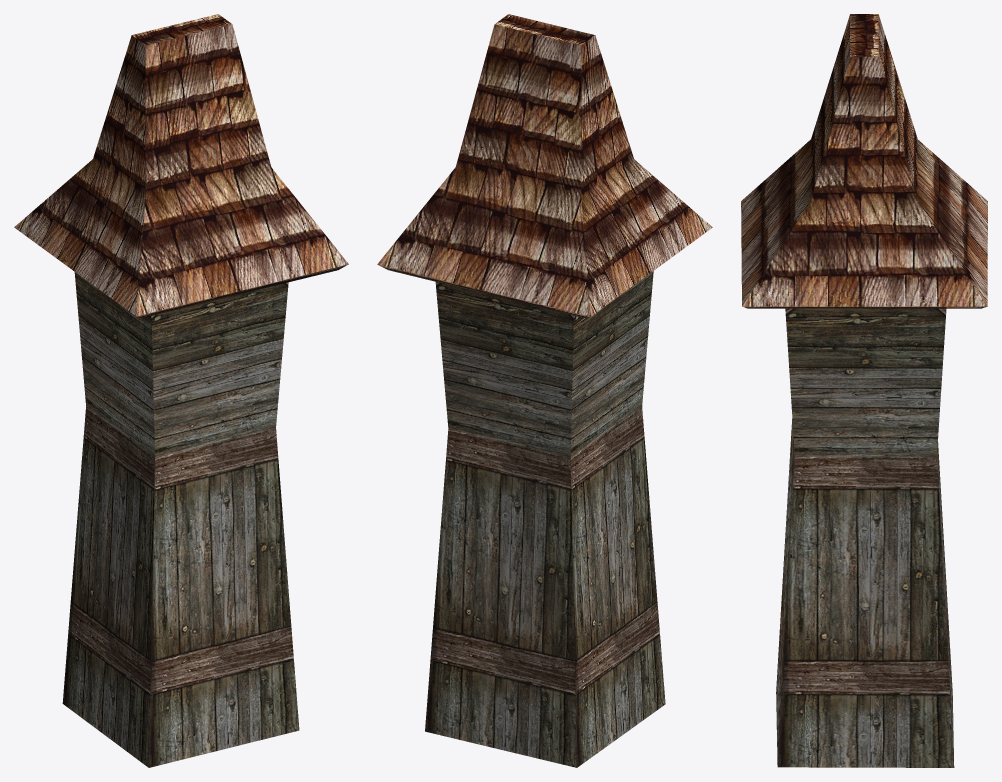
The model's file is loc2_13.glb.
3 renders of one model, left to right at view 1: azimuth 30°, elevation 25°; view 2: azimuth 150°, elevation 25°; view 3: azimuth 270°, elevation 25°, orthographic.
Parts seen in each view (by area): view 1: loc2_13-col; view 2: loc2_13-col; view 3: loc2_13-col.
Part boxes in pixels (x1,y1,x2,y2): loc2_13-col: (14, 14, 348, 767); loc2_13-col: (377, 14, 712, 767); loc2_13-col: (741, 14, 987, 767).
Size of the model in its own units: 3.38 by 10.39 by 3.34.
4 materials, 4 textured.
